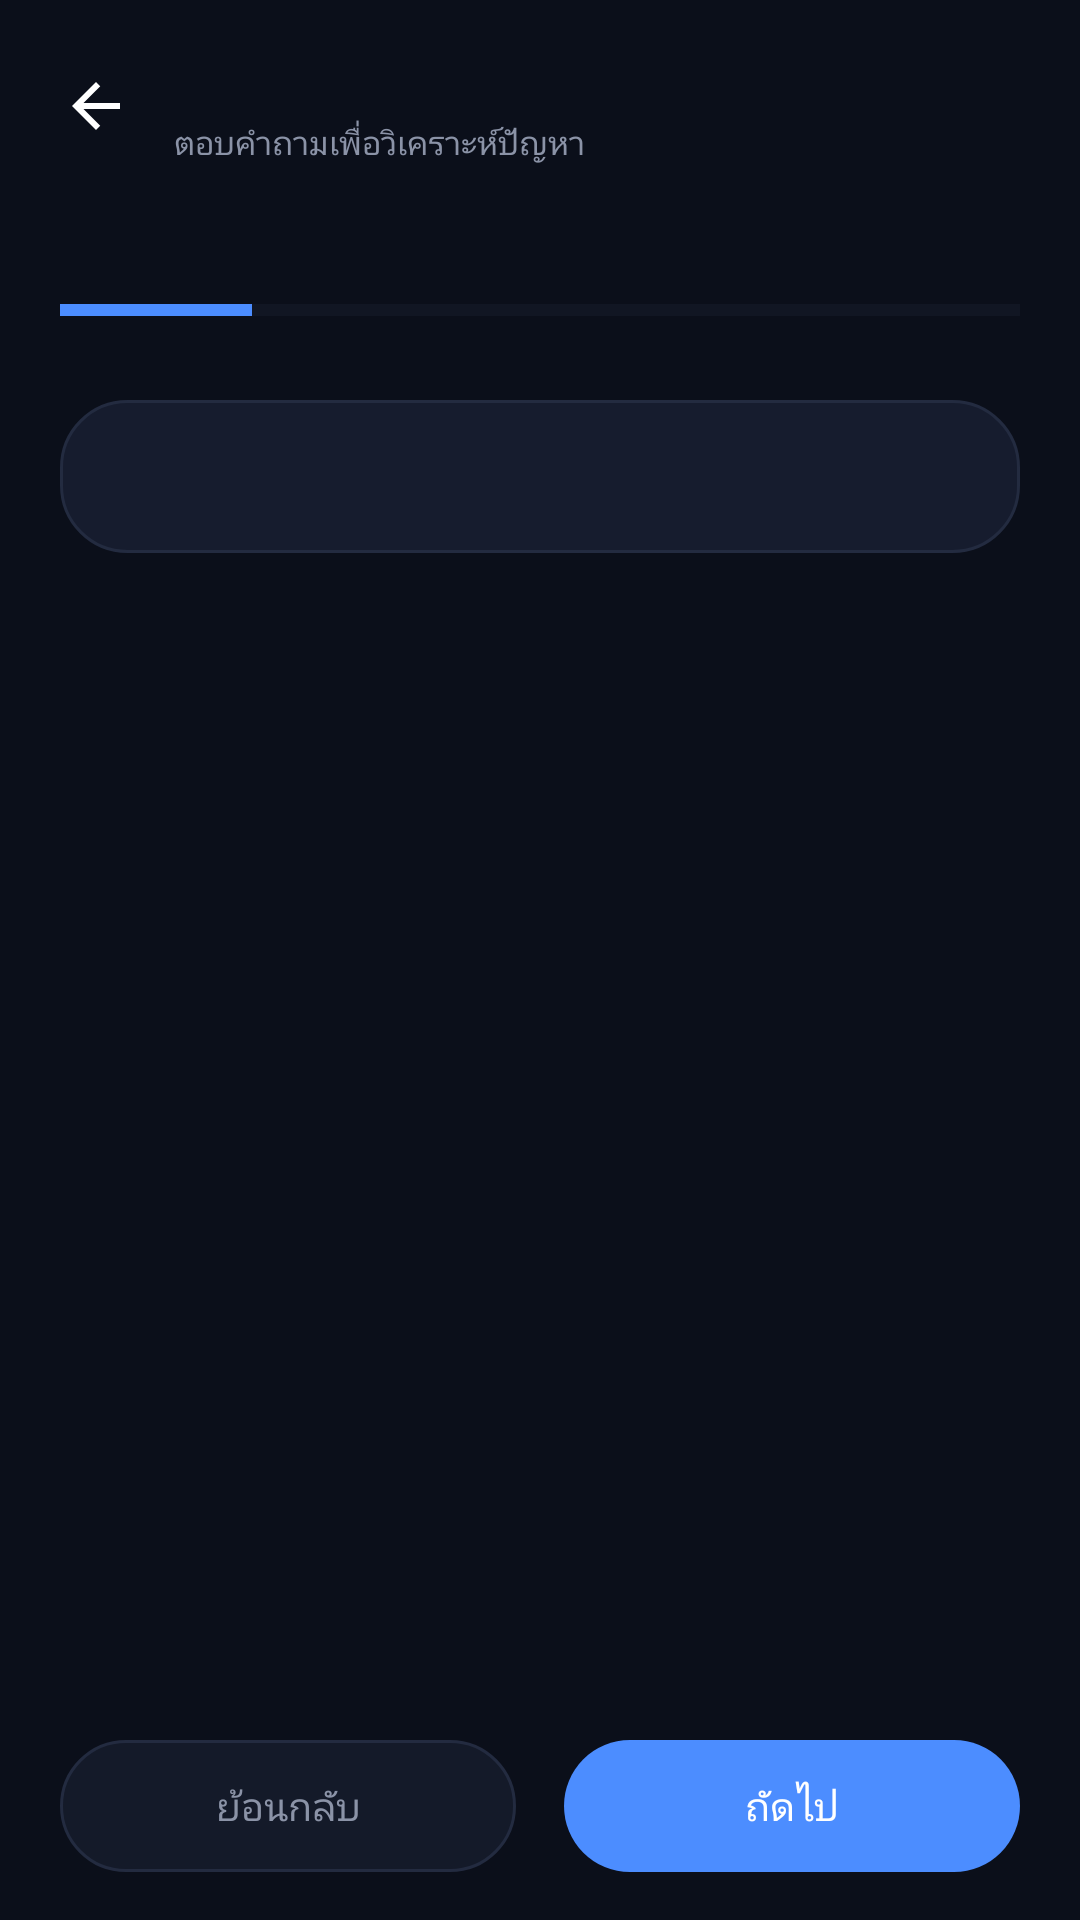

Icons on this 1080*1920 Android screen, each with its box as {"left": x1, "top": y1, "right": x2, "bottom": y2}:
back: {"left": 72, "top": 82, "right": 120, "bottom": 130}
